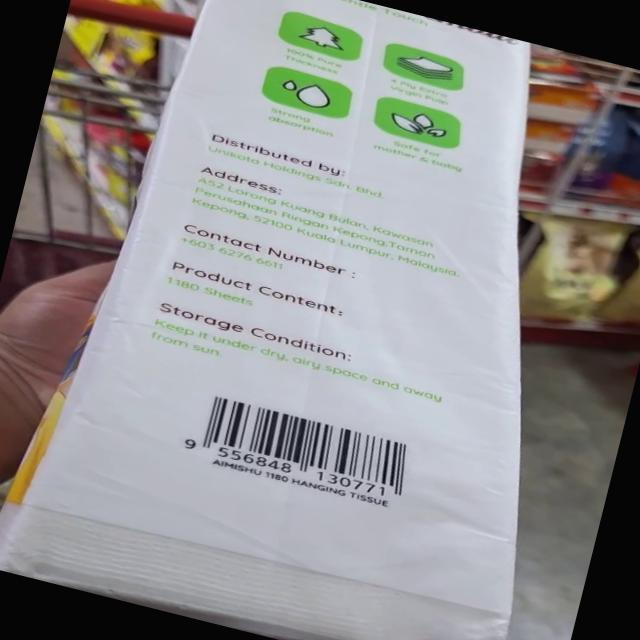Tisu: (0, 316, 577, 640), (68, 140, 604, 462), (121, 0, 604, 285)
